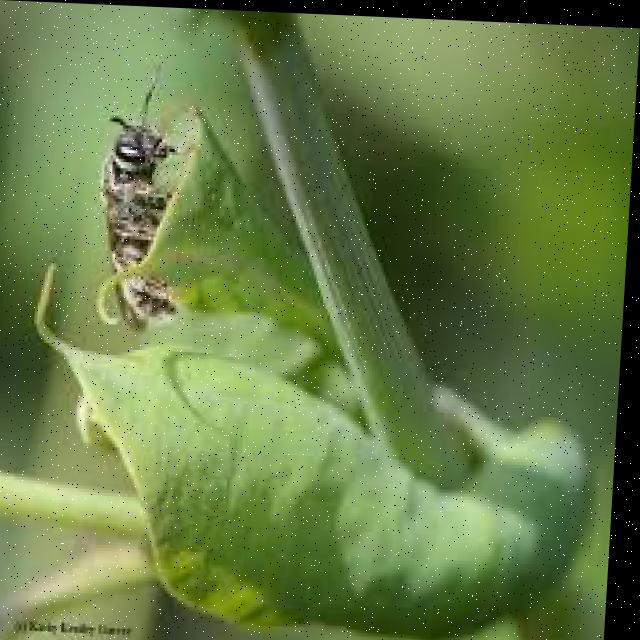Lasioglossum: (89, 57, 188, 347)
